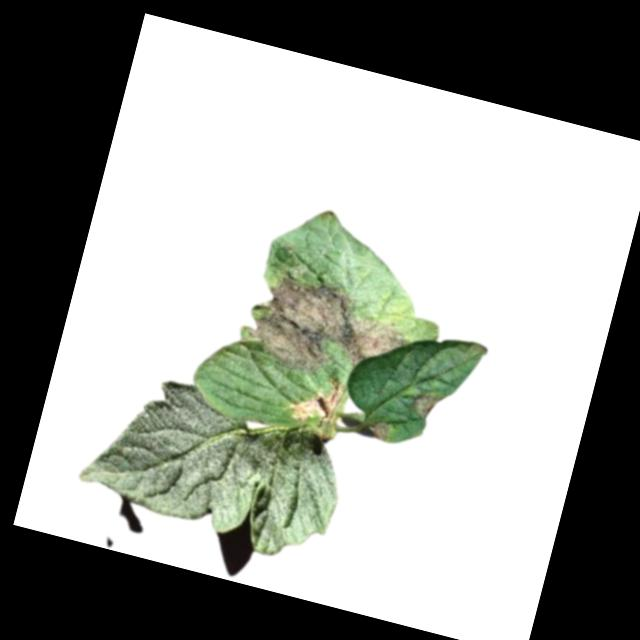Late_blight: (232, 262, 421, 395), (285, 368, 347, 430), (408, 384, 445, 422), (364, 417, 392, 441)
